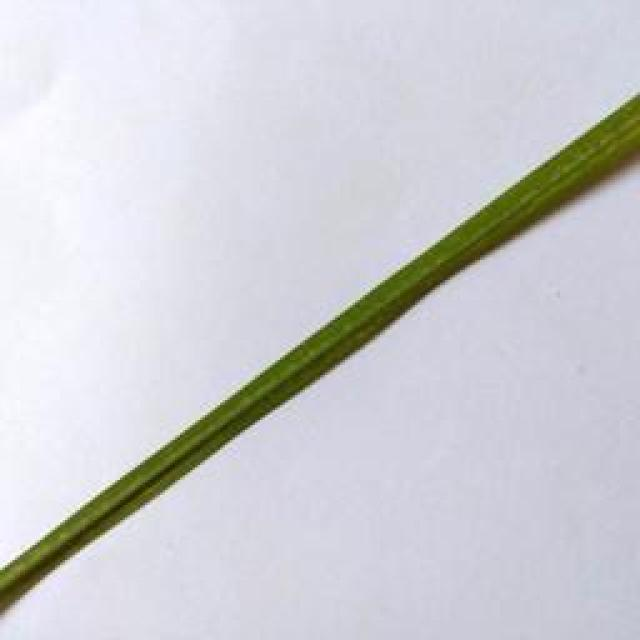Healthy-Plant: (0, 101, 640, 601)
